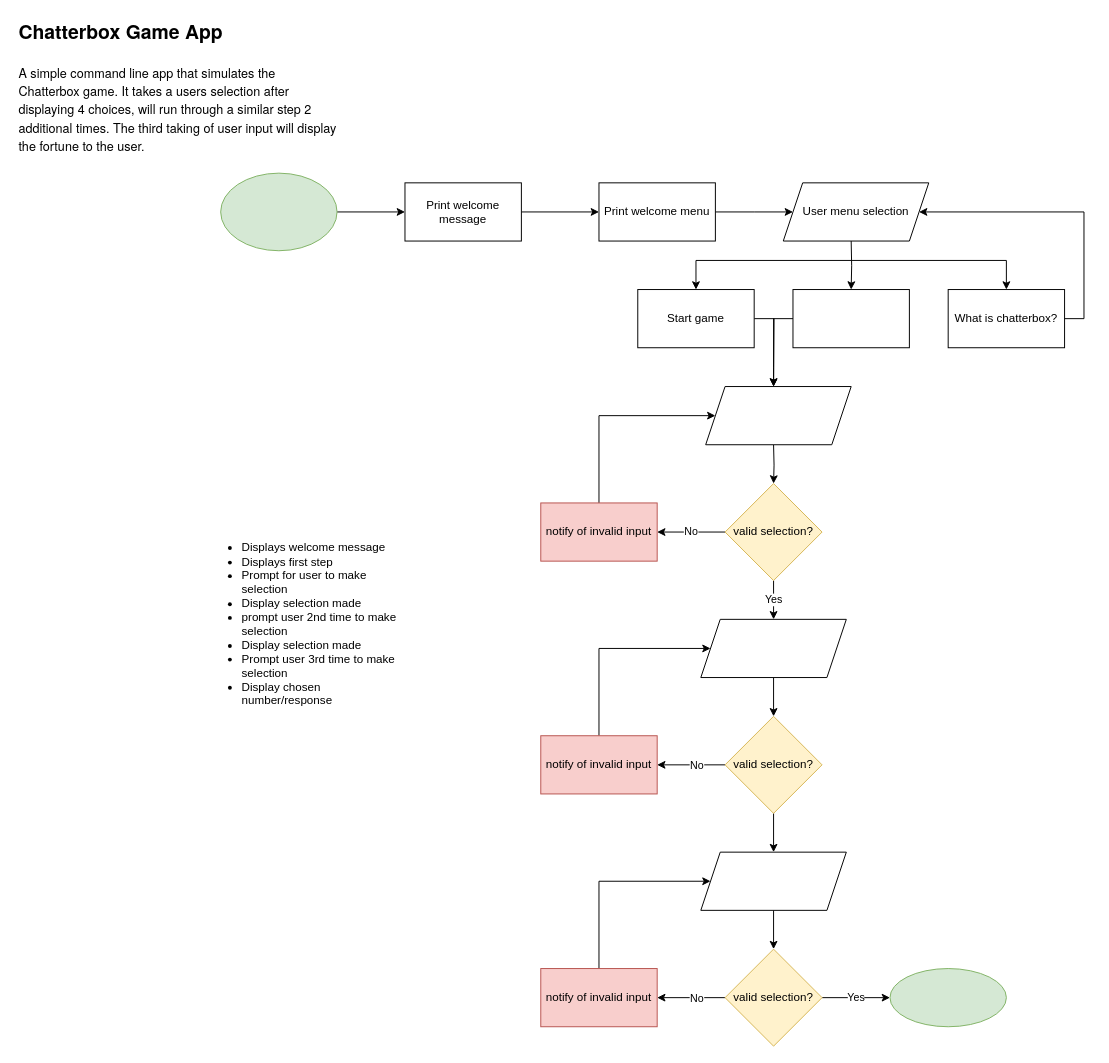
Some shapes in this 1109 by 1063 pixel diagram are drawn without their labels. The box of each missing label's shape, as (x1, y1, x2, y2) in pixels:
Ask for user selection (1): (705, 386, 851, 445)
Ask for user selection (2): (700, 618, 846, 678)
Ask for user selection (3): (700, 851, 846, 910)
Christmas Edition: (792, 289, 909, 348)
Print message: (889, 968, 1006, 1027)
ruby chatterbox.rb: (220, 172, 337, 251)
